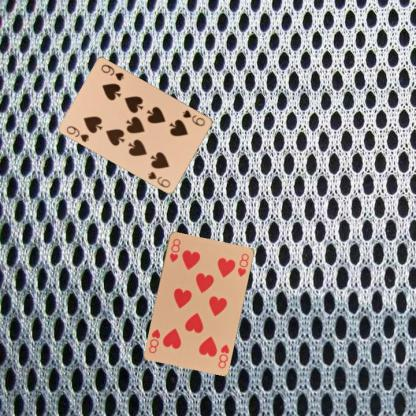8h: (167, 236, 181, 263), (216, 342, 230, 369)
9s: (64, 123, 91, 143), (180, 108, 207, 127)
